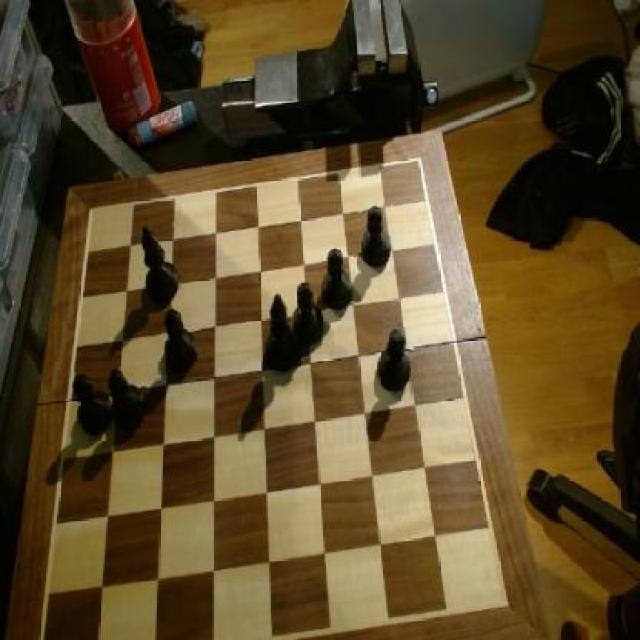bishop: (136, 221, 180, 307), (264, 291, 304, 377)
black-knight: (158, 305, 201, 377), (376, 326, 416, 399), (105, 366, 147, 435), (70, 372, 111, 440), (359, 203, 393, 272), (321, 248, 354, 314), (294, 284, 326, 344)
